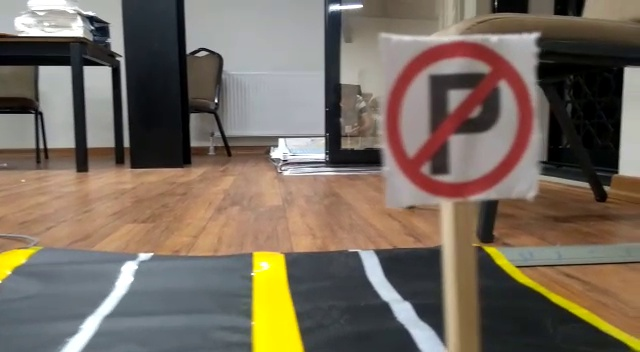park_yapilmaz: (378, 33, 533, 197)
